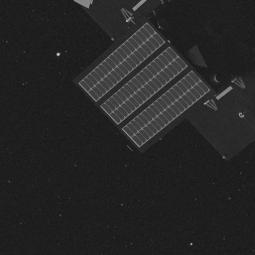proba_2: (76, 0, 255, 175)
